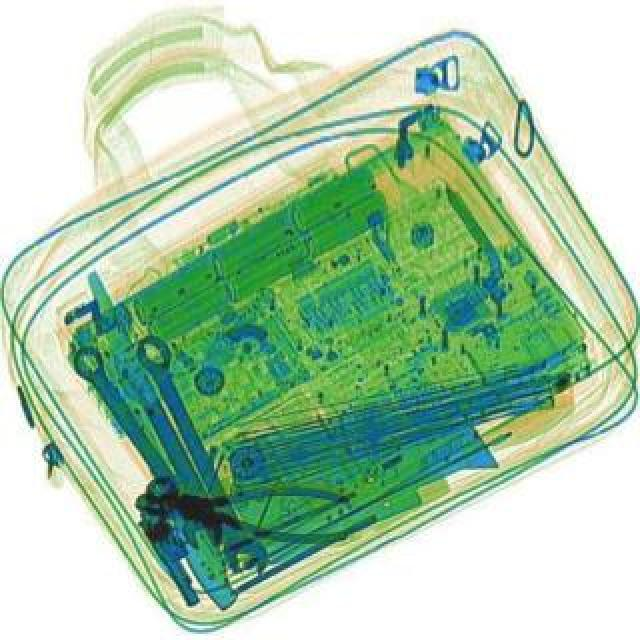gun: (116, 466, 236, 608)
scissors: (54, 334, 234, 554), (120, 326, 272, 582)
wrench: (166, 474, 350, 548)
